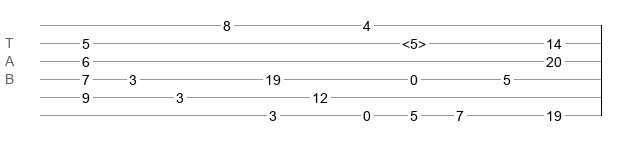0: (363, 108, 371, 118), (410, 72, 418, 82)
12: (312, 90, 328, 100)
14: (546, 36, 562, 46)
19: (265, 72, 281, 82), (546, 108, 562, 118)
20: (546, 54, 562, 64)
3: (129, 72, 137, 82), (176, 90, 184, 100), (269, 108, 277, 118)
4: (363, 18, 371, 28)
5: (82, 36, 90, 46), (410, 108, 418, 118), (503, 72, 511, 82)
6: (82, 54, 90, 64)
7: (82, 72, 90, 82), (456, 108, 464, 118)
8: (223, 18, 231, 28)
9: (82, 90, 90, 100)
harmonic: (402, 36, 426, 46)
